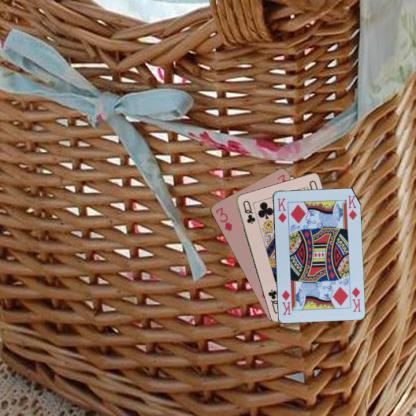3d: (212, 205, 233, 232)
Kd: (349, 284, 362, 313), (275, 195, 287, 224)
Qc: (240, 198, 256, 224)
